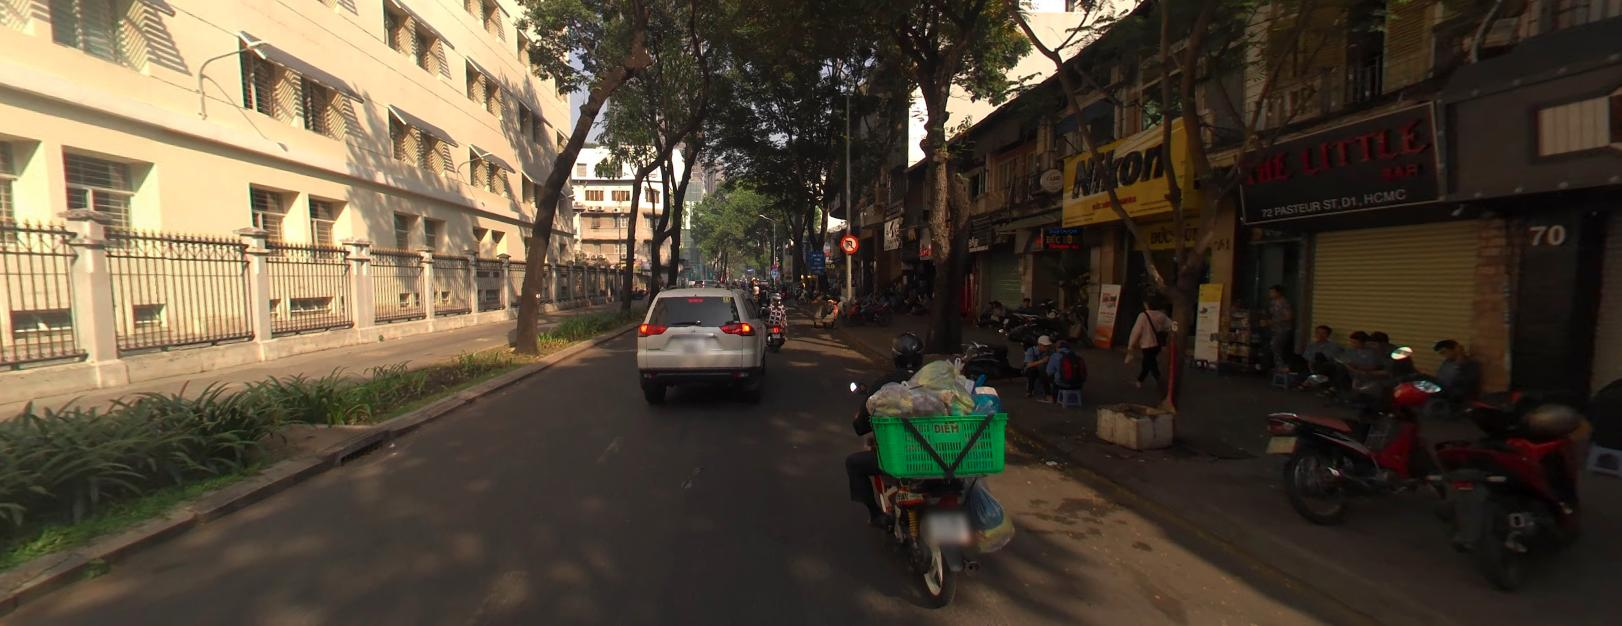Cam dung va do: (771, 262, 776, 267), (771, 262, 776, 266)
Cam re: (840, 233, 858, 252), (840, 233, 857, 251)
